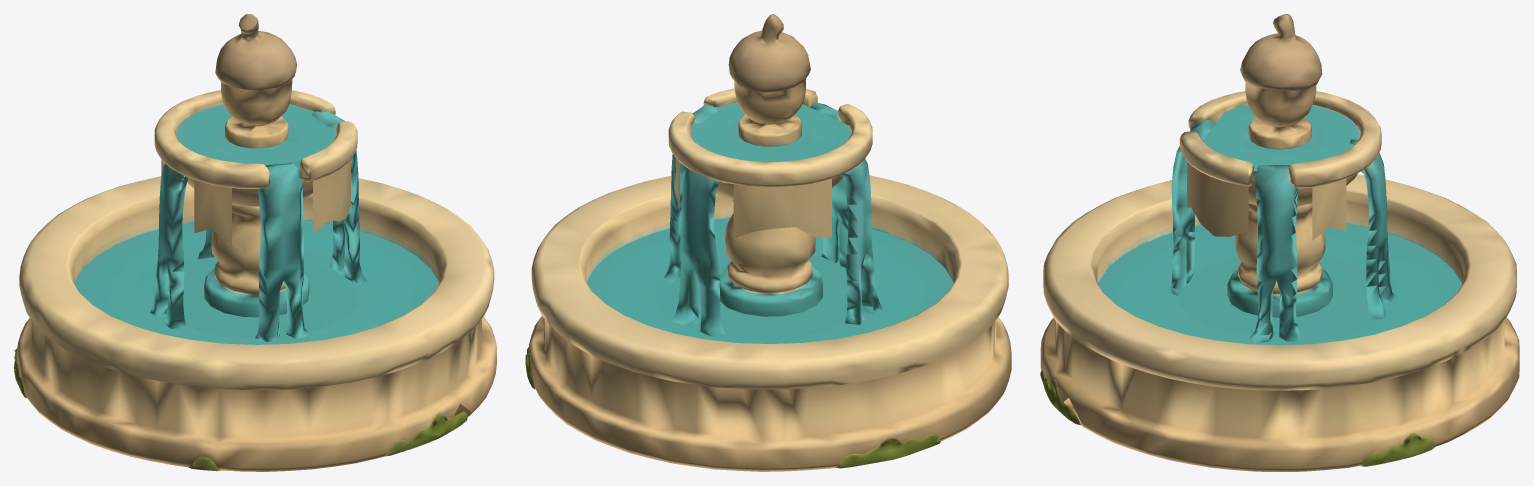
Rendered from garden_fountain.glb.
3 views of the same model, side by side, from view 1: azimuth 30°, elevation 25°; view 2: azimuth 150°, elevation 25°; view 3: azimuth 270°, elevation 25° (orthographic).
Parts seen in each view (by area): view 1: garden_fountain; view 2: garden_fountain; view 3: garden_fountain.
Part boxes in pixels (x1,y1,x2,y2): garden_fountain: (14,14,496,471); garden_fountain: (525,14,1011,471); garden_fountain: (1040,14,1519,471).
Size of the model in its own units: 2.93 by 2.4 by 2.93.
Materials: 1 (1 with a texture image).
